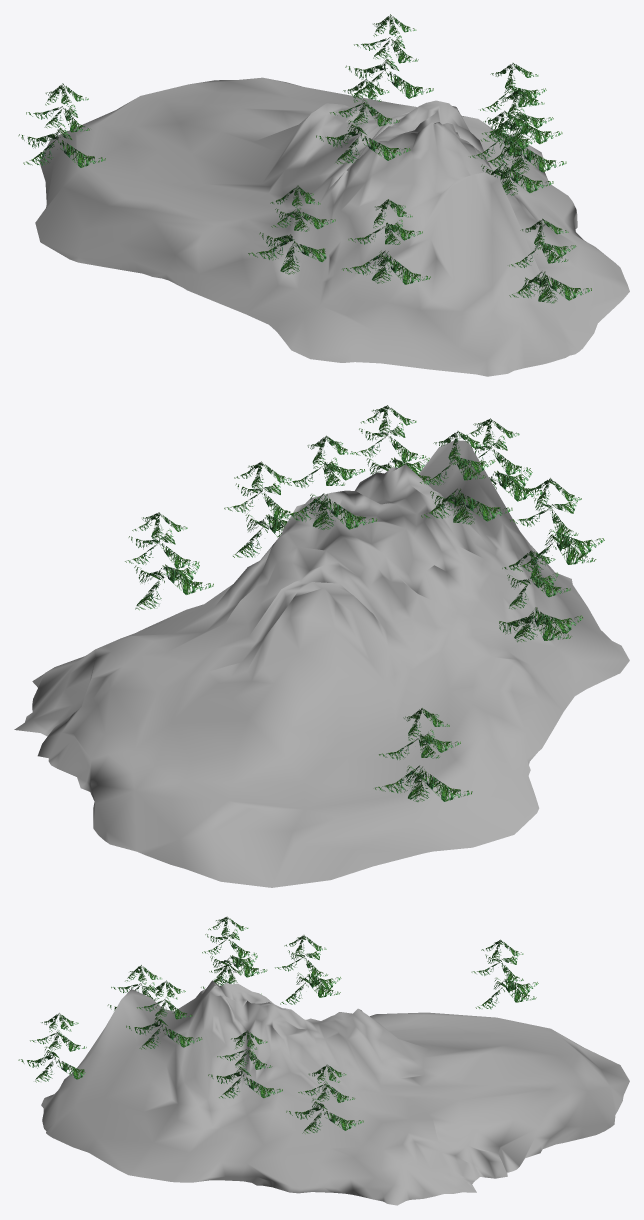
Rendered from snow_island_02.fbx.
3 renders of one model, top to bottom at view 1: azimuth 30°, elevation 25°; view 2: azimuth 150°, elevation 25°; view 3: azimuth 270°, elevation 25°, orthographic. The views are drawn at different scales.
Visible parts, largest first — view 1: snow_island_02; view 2: snow_island_02; view 3: snow_island_02.
Boxes of the visible parts, x1=… form: snow_island_02: x1=18, y1=14, x2=629, y2=376; snow_island_02: x1=14, y1=405, x2=629, y2=887; snow_island_02: x1=18, y1=916, x2=629, y2=1205.
Bounding box in the file's own units: 0.2972 × 0.1401 × 0.4155.
Materials: 2 (1 with a texture image).
